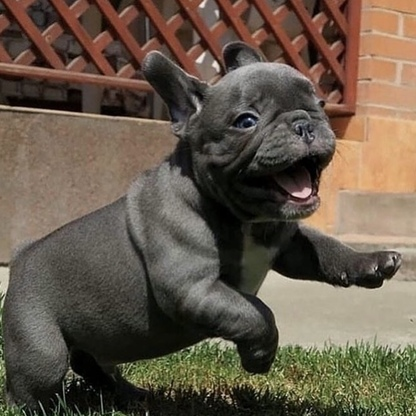bulldog: (3, 38, 400, 403)
